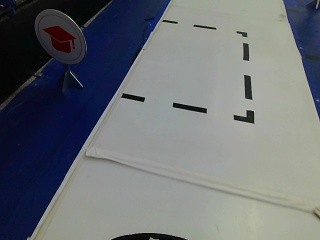school: (30, 9, 86, 67)
